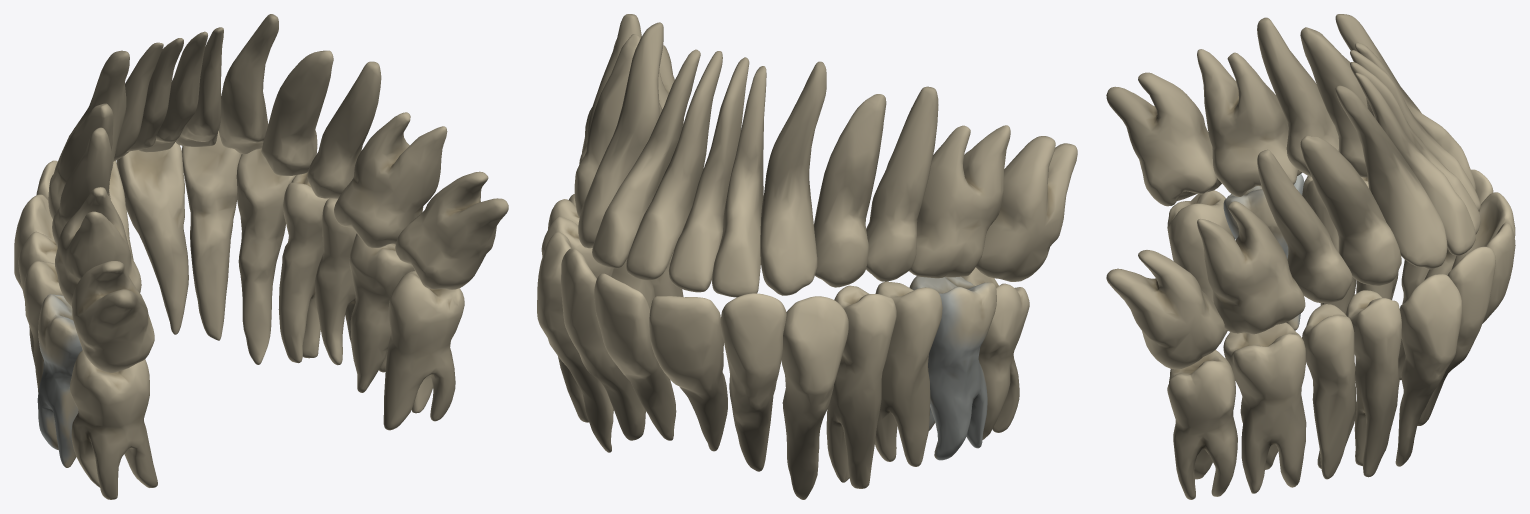
File: dentes.glb
3 views of the same model, side by side, from view 1: azimuth 30°, elevation 25°; view 2: azimuth 150°, elevation 25°; view 3: azimuth 270°, elevation 25° (orthographic). The views are drawn at different scales.
Visible parts, largest first — view 1: FJ1263, FJ1254, FJ1275, FJ1256, FJ1265, FJ1266, FJ1267, FJ1270, FJ1262, FJ1255, FJ1261, FJ1268 (+17 smaller); view 2: FJ1268, FJ1274, FJ1277, FJ1270, FJ1281, FJ1269, FJ1278, FJ1271, FJ1280, FJ1279, FJ1258, FJ1273 (+15 smaller); view 3: FJ1261, FJ1254, FJ1270, FJ1268, FJ1256, FJ1263, FJ1260, FJ1262, FJ1255, FJ1267, FJ1264, FJ1257 (+16 smaller).
Part boxes in pixels (<box>): FJ1263: <box>383,270,464,430</box>; FJ1254: <box>334,112,447,248</box>; FJ1275: <box>69,350,157,499</box>; FJ1256: <box>395,171,508,289</box>; FJ1265: <box>116,142,188,334</box>; FJ1266: <box>182,131,241,340</box>; FJ1267: <box>236,148,295,364</box>; FJ1270: <box>72,261,154,372</box>; FJ1262: <box>278,172,328,363</box>; FJ1255: <box>261,50,333,175</box>; FJ1261: <box>349,233,414,392</box>; FJ1268: <box>55,187,141,306</box>; FJ1268: <box>909,125,1010,278</box>; FJ1274: <box>760,61,826,295</box>; FJ1277: <box>826,285,896,488</box>; FJ1270: <box>976,136,1077,281</box>; FJ1281: <box>781,296,848,499</box>; FJ1269: <box>814,94,886,287</box>; FJ1278: <box>875,281,942,466</box>; FJ1271: <box>866,86,938,281</box>; FJ1280: <box>720,293,786,471</box>; FJ1279: <box>649,296,727,451</box>; FJ1258: <box>626,51,722,280</box>; FJ1273: <box>712,66,766,297</box>; FJ1261: <box>1223,322,1306,493</box>; FJ1254: <box>1197,201,1305,334</box>; FJ1270: <box>1106,72,1221,206</box>; FJ1268: <box>1197,49,1302,196</box>; FJ1256: <box>1106,250,1224,369</box>; FJ1263: <box>1167,350,1237,499</box>; FJ1260: <box>1335,85,1447,269</box>; FJ1262: <box>1345,290,1401,477</box>; FJ1255: <box>1300,135,1401,285</box>; FJ1267: <box>1395,274,1462,466</box>; FJ1264: <box>1302,304,1356,479</box>; FJ1257: <box>1257,149,1352,303</box>.
Bounding box in the file's own units: 65.61 × 57.37 × 57.01.
